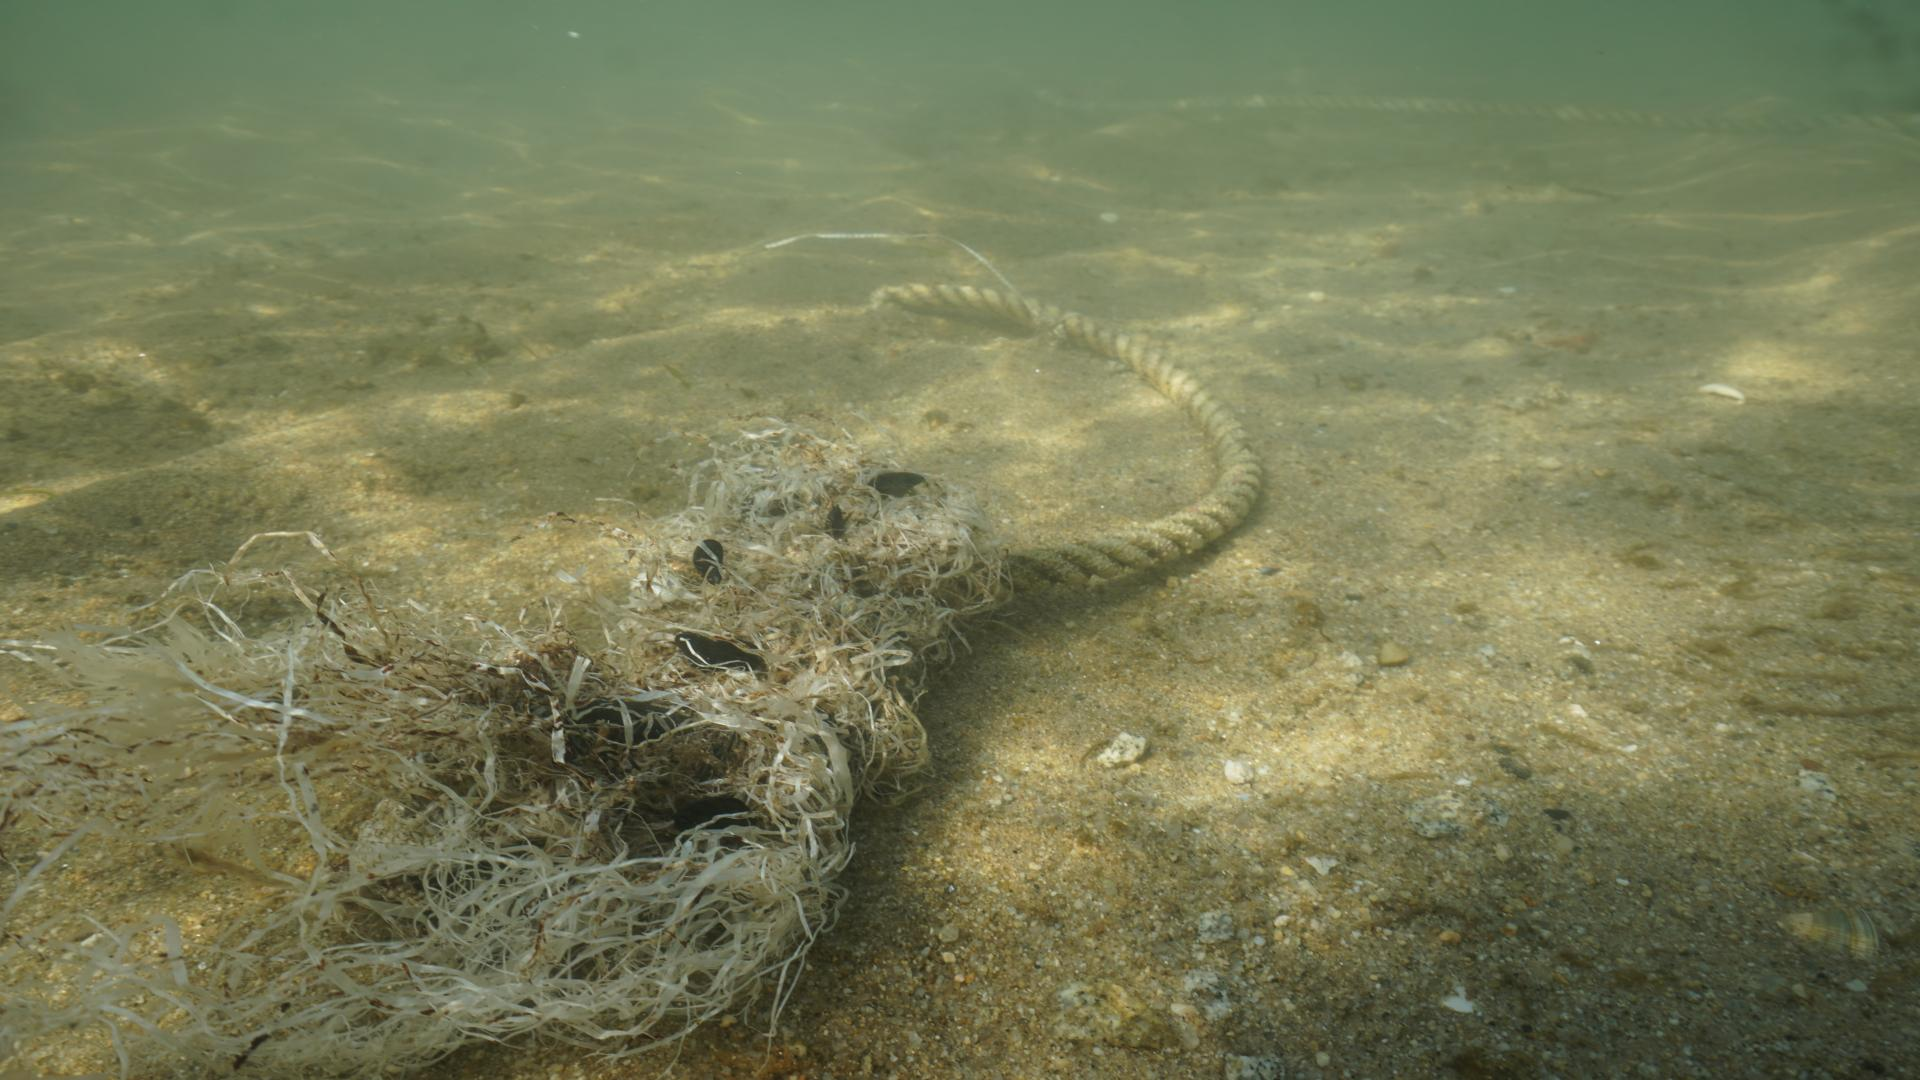rope: (866, 276, 1271, 599)
